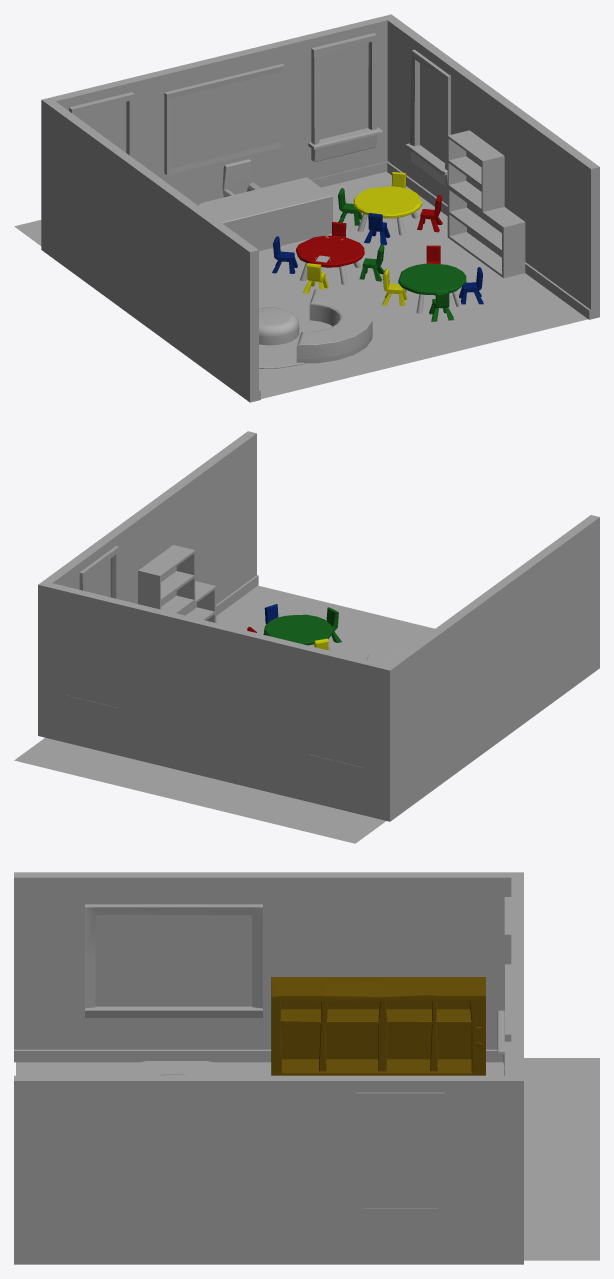
The model's file is PreschoolGrayBox2.fbx.
The picture shows the model from 3 angles, top to bottom: view 1: azimuth 30°, elevation 25°; view 2: azimuth 150°, elevation 25°; view 3: azimuth 270°, elevation 25°; orthographic projection. The views are drawn at different scales.
Visible parts, largest first — view 1: Walls, Floor, FramedPhoto, Window_Right, Desk_Teacher, BookShelf_Bottom, Window_RightWall, ReadingArea_Bench, BookShelf_Top, Window_Left, Table1, ReadingArea_Carpet (+5 smaller); view 2: Walls, Floor, Window_Left, Window_Right, BookShelf_Top, Table3_Top, Window_RightWall, BookShelf_Bottom, ReadingArea_Bench; view 3: Walls, Cubby, WhiteBoard, Floor, Window_RightWall, ReadingArea_Carpet, Window_Left, FramedPhoto.
Boxes of the visible parts, x1,y1,x2,y2 form: Walls: [41, 14, 599, 402]; Floor: [14, 171, 587, 398]; FramedPhoto: [164, 64, 284, 174]; Window_Right: [308, 33, 383, 161]; Desk_Teacher: [198, 177, 332, 251]; BookShelf_Bottom: [447, 187, 525, 278]; Window_RightWall: [405, 49, 450, 187]; ReadingArea_Bench: [296, 289, 372, 363]; BookShelf_Top: [447, 130, 504, 211]; Window_Left: [69, 92, 134, 158]; Table1: [353, 186, 422, 235]; ReadingArea_Carpet: [259, 299, 332, 368]; Walls: [38, 431, 599, 821]; Floor: [14, 585, 434, 843]; Window_Left: [304, 659, 367, 771]; Window_Right: [60, 600, 123, 712]; BookShelf_Top: [138, 545, 195, 613]; Table3_Top: [264, 614, 333, 645]; Window_RightWall: [79, 546, 119, 599]; BookShelf_Bottom: [178, 581, 216, 622]; ReadingArea_Bench: [367, 634, 427, 664]; Walls: [14, 872, 523, 1264]; Cubby: [271, 977, 485, 1075]; WhiteBoard: [85, 904, 262, 1017]; Floor: [16, 1058, 599, 1260]; Window_RightWall: [356, 1092, 444, 1211]; ReadingArea_Carpet: [98, 1061, 254, 1075]; Window_Left: [497, 897, 511, 1067]; FramedPhoto: [505, 964, 511, 1041].
Size of the model in its own units: 23.49 by 9.66 by 27.75.
